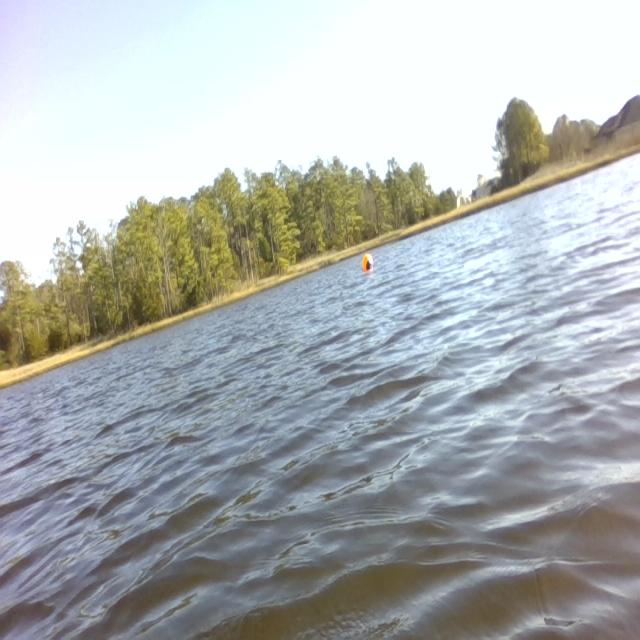Buoy: (356, 246, 376, 278)
